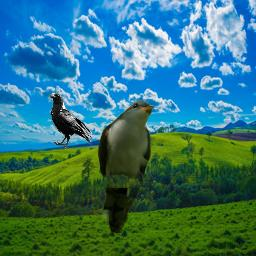Crow: (48, 92, 92, 148)
Cuckoo: (97, 100, 154, 233)
